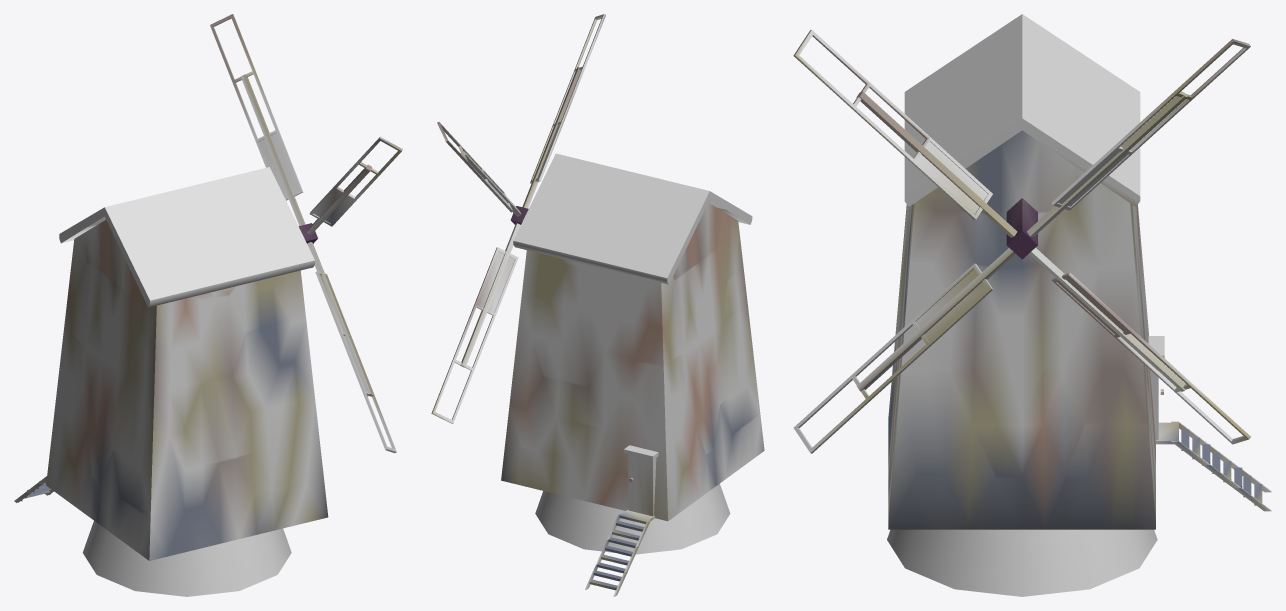
Rendered from MillV3 - Copy.fbx.
3 views of the same model, side by side, from view 1: azimuth 30°, elevation 25°; view 2: azimuth 150°, elevation 25°; view 3: azimuth 270°, elevation 25° (orthographic). The views are drawn at different scales.
Visible parts, largest first — view 1: Mill; view 2: Mill; view 3: Mill.
Part boxes in pixels (bbox=[...]): Mill: bbox=[14, 14, 402, 596]; Mill: bbox=[431, 14, 764, 596]; Mill: bbox=[793, 14, 1271, 596].
Size of the model in its own units: 733 by 1437 by 1072.
